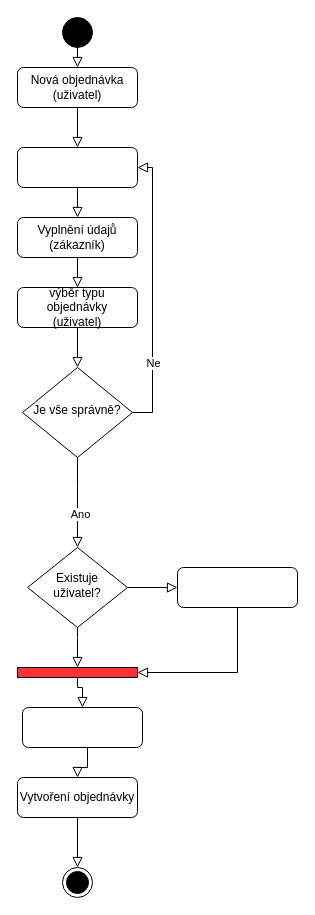
This 315x915 diagram has some shape labels left out. The shapes that lost their labels are listed below. From the top down, each one's centre as x and y in pixels, then its label:
pixel 77 167: Otevření formuláře
pixel 237 587: Vytvoření nového zákazníka
pixel 82 727: Vypsání rekapitulace
